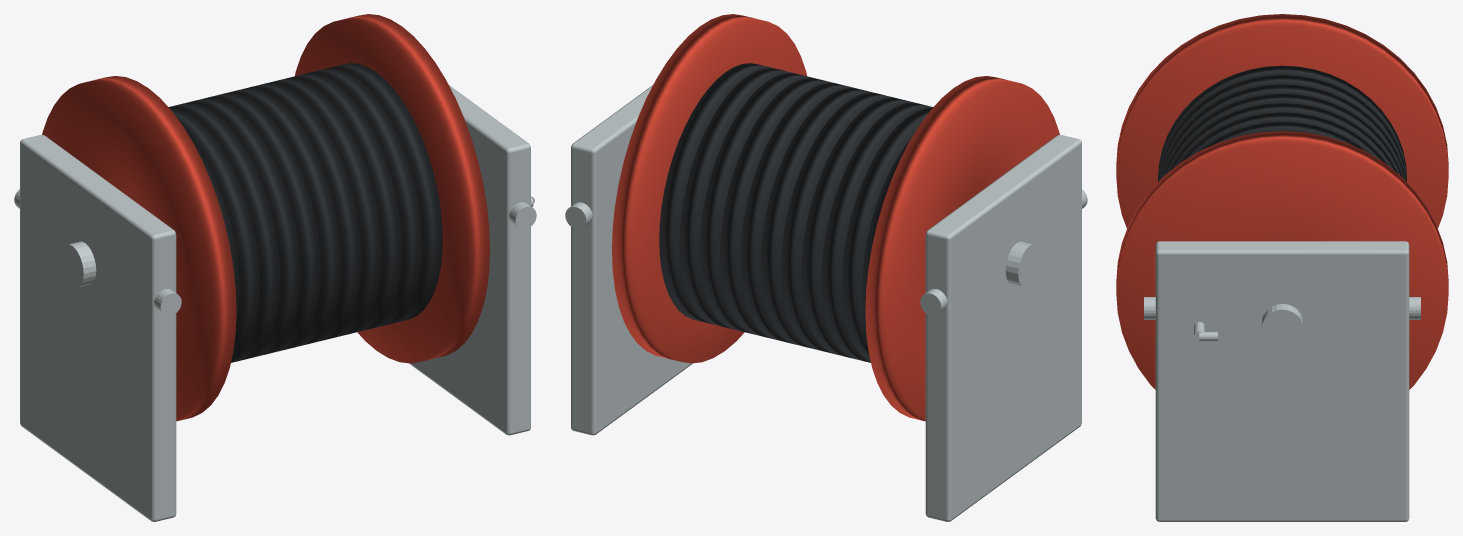
Rendered from broadcast-tower-and-relay-station-broadcast-tower-and--d56c4388__30267.glb.
The picture shows the model from 3 angles, left to right: view 1: azimuth 30°, elevation 25°; view 2: azimuth 150°, elevation 25°; view 3: azimuth 270°, elevation 25°; orthographic projection. The views are drawn at different scales.
Parts seen in each view (by area): view 1: broadcast-tower-and-relay-station-cable-reel; view 2: broadcast-tower-and-relay-station-cable-reel; view 3: broadcast-tower-and-relay-station-cable-reel.
Boxes of the visible parts, x1=… form: broadcast-tower-and-relay-station-cable-reel: x1=14, y1=14, x2=536, y2=521; broadcast-tower-and-relay-station-cable-reel: x1=565, y1=14, x2=1087, y2=521; broadcast-tower-and-relay-station-cable-reel: x1=1116, y1=14, x2=1448, y2=521.
Bounding box in the file's own units: 0.99 × 0.84 × 0.72.
